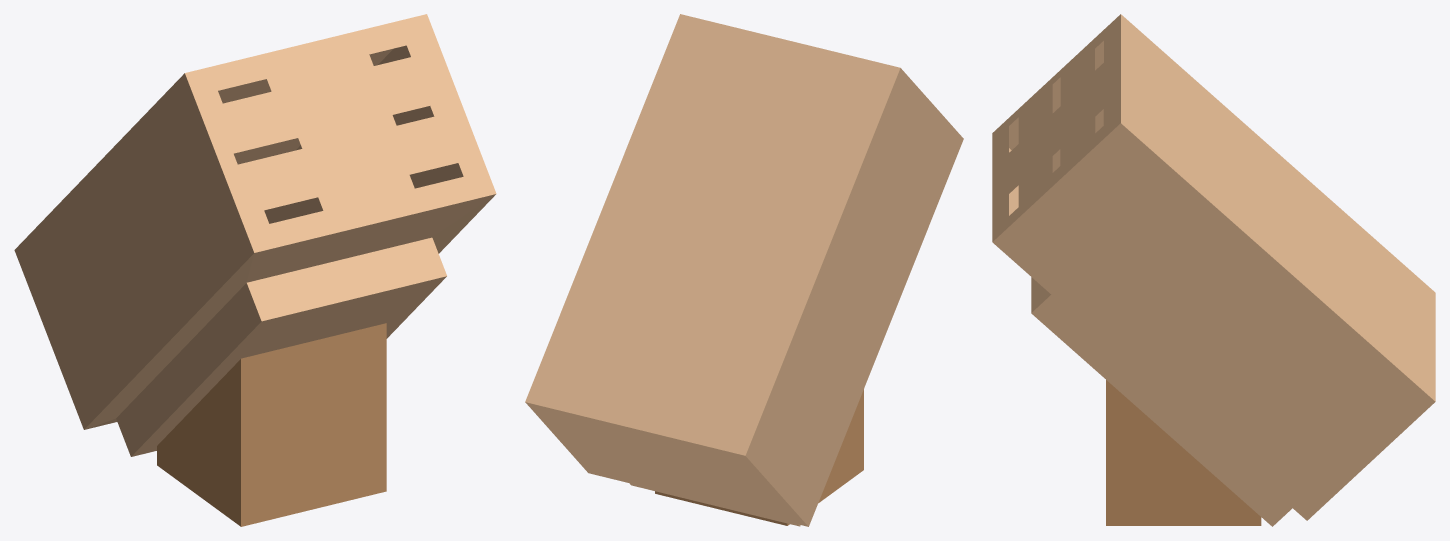
Rendered from knife_block.fbx.
The picture shows the model from 3 angles, left to right: view 1: azimuth 30°, elevation 25°; view 2: azimuth 150°, elevation 25°; view 3: azimuth 270°, elevation 25°; orthographic projection. The views are drawn at different scales.
Visible parts, largest first — view 1: Cube.002; view 2: Cube.002; view 3: Cube.002.
Boxes of the visible parts, x1=… form: Cube.002: x1=14, y1=14, x2=496, y2=526; Cube.002: x1=525, y1=14, x2=963, y2=526; Cube.002: x1=992, y1=14, x2=1435, y2=526.
Bounding box in the file's own units: 251 × 456 × 431.
